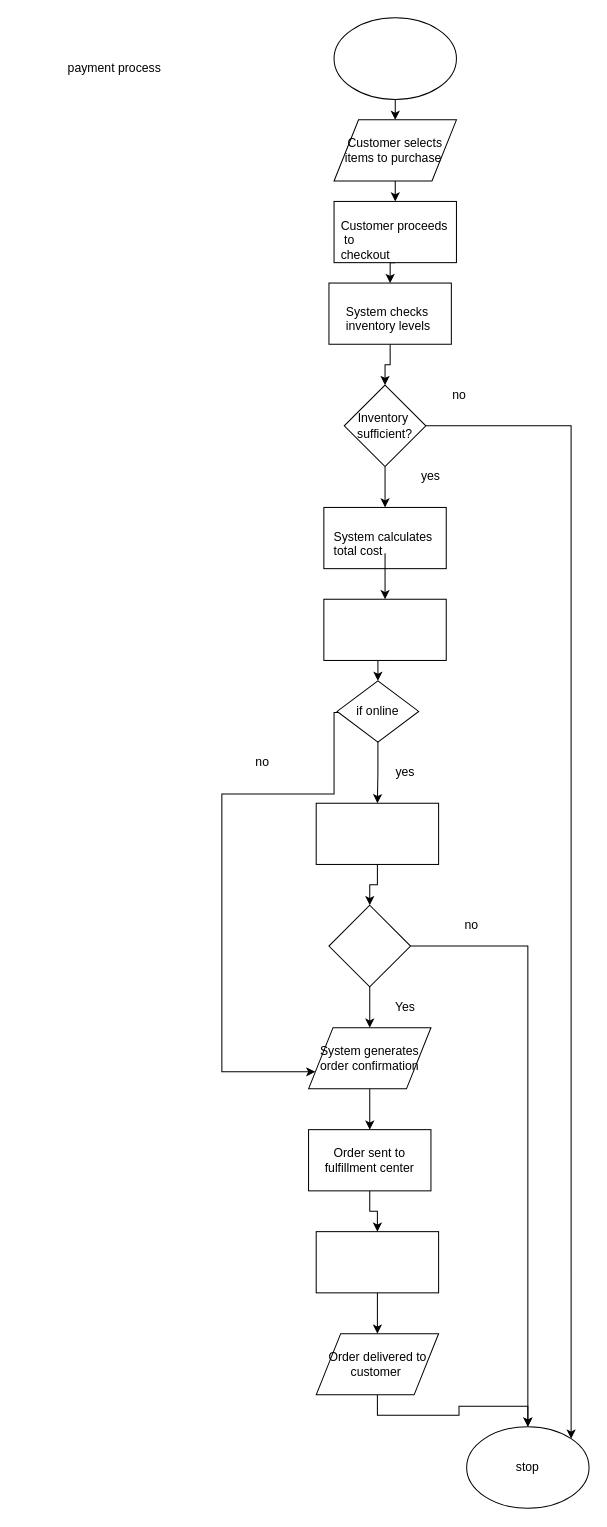
This 607x1527 diagram has some shape labels left out. The shapes that lost their labels are listed below. From the top down, each one's box as (x1, y1, x2, y2) in pixels, then its label:
(333, 17, 456, 99): start
(323, 598, 446, 660): Customer enters payment information
(315, 802, 439, 864): System verifies payment
(328, 904, 411, 987): payment accepted
(315, 1231, 439, 1293): Fulfillment center ships order
